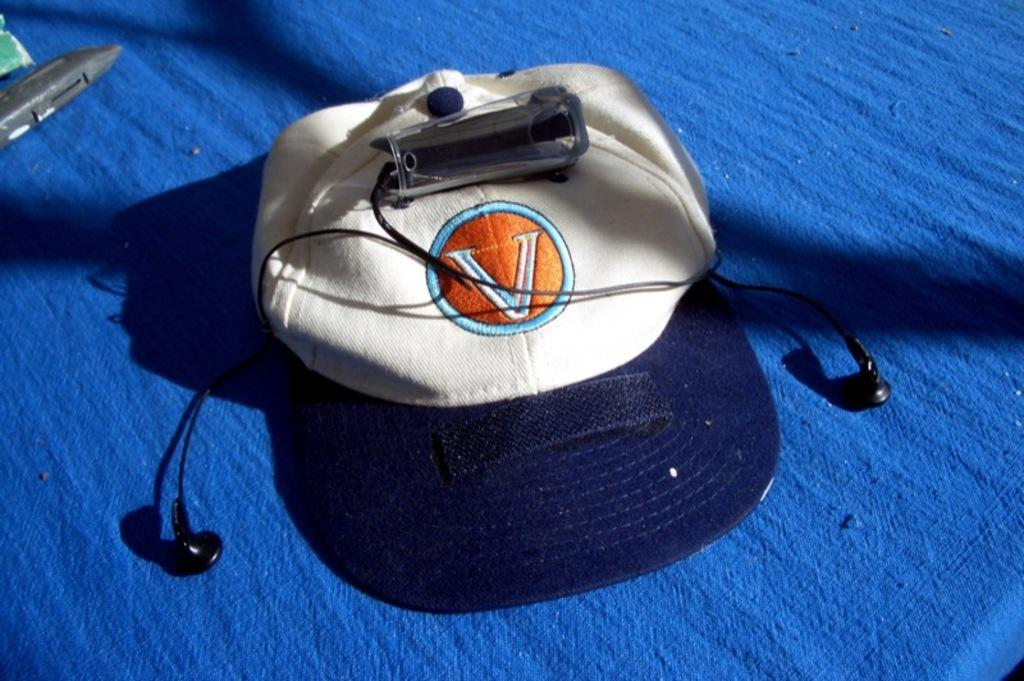Hat: (250, 62, 780, 615)
